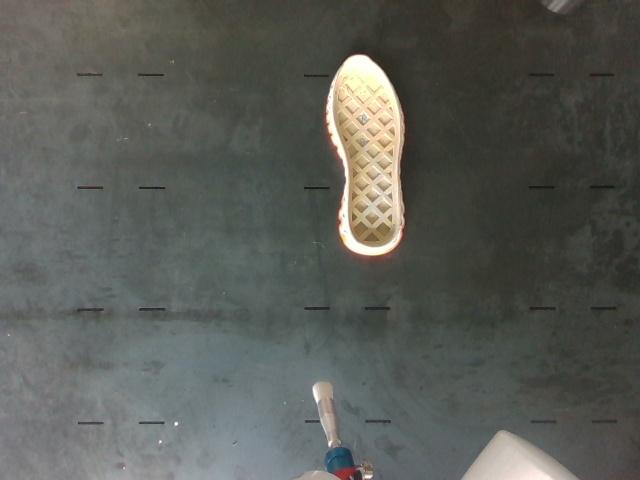shoes: (331, 55, 401, 247)
